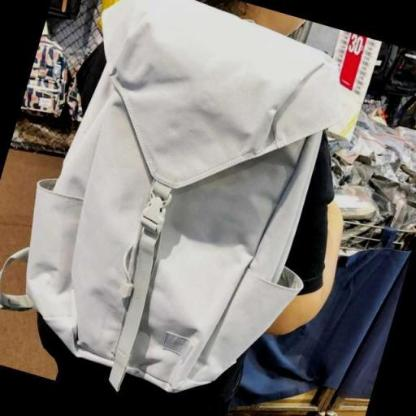bag: (23, 3, 334, 391)
